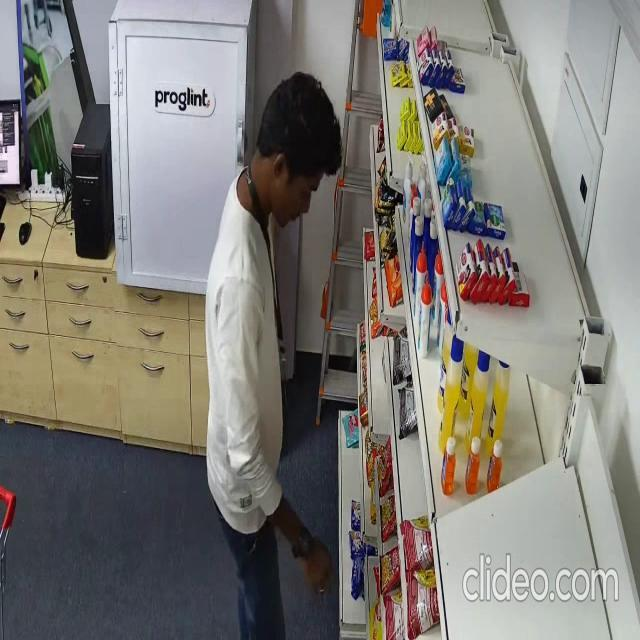normal: (204, 68, 343, 640)
